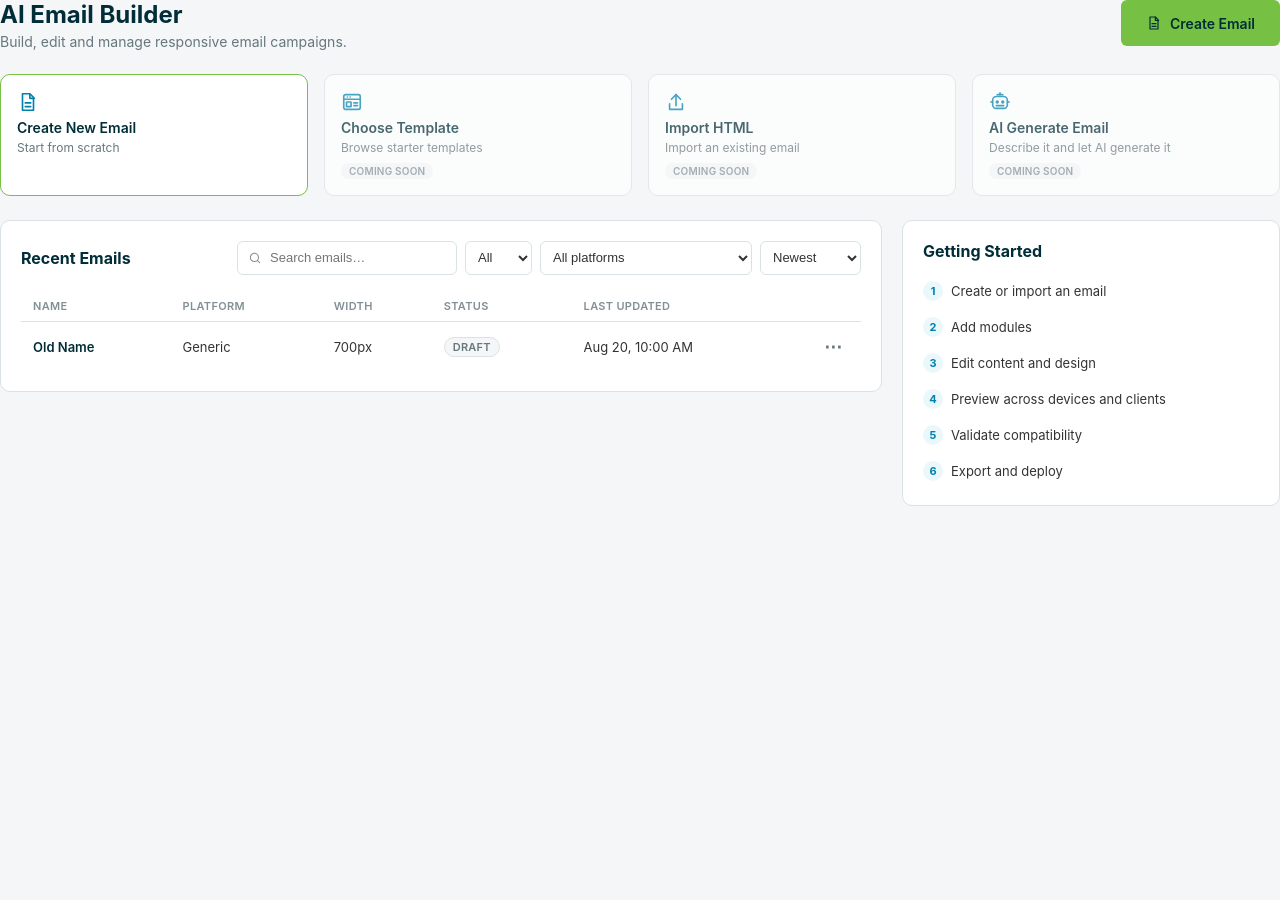
EmailBuilderDashboardPage — row actions › Rename opens a dialog, saves through the API, and updates the row without a reload
Expected: the link "Old Name" is shown, top-left (33, 338), bottom-right (94, 354)
Click the button named "Actions for Old Name" at (833, 346), box top-left (817, 330), bottom-right (849, 362)
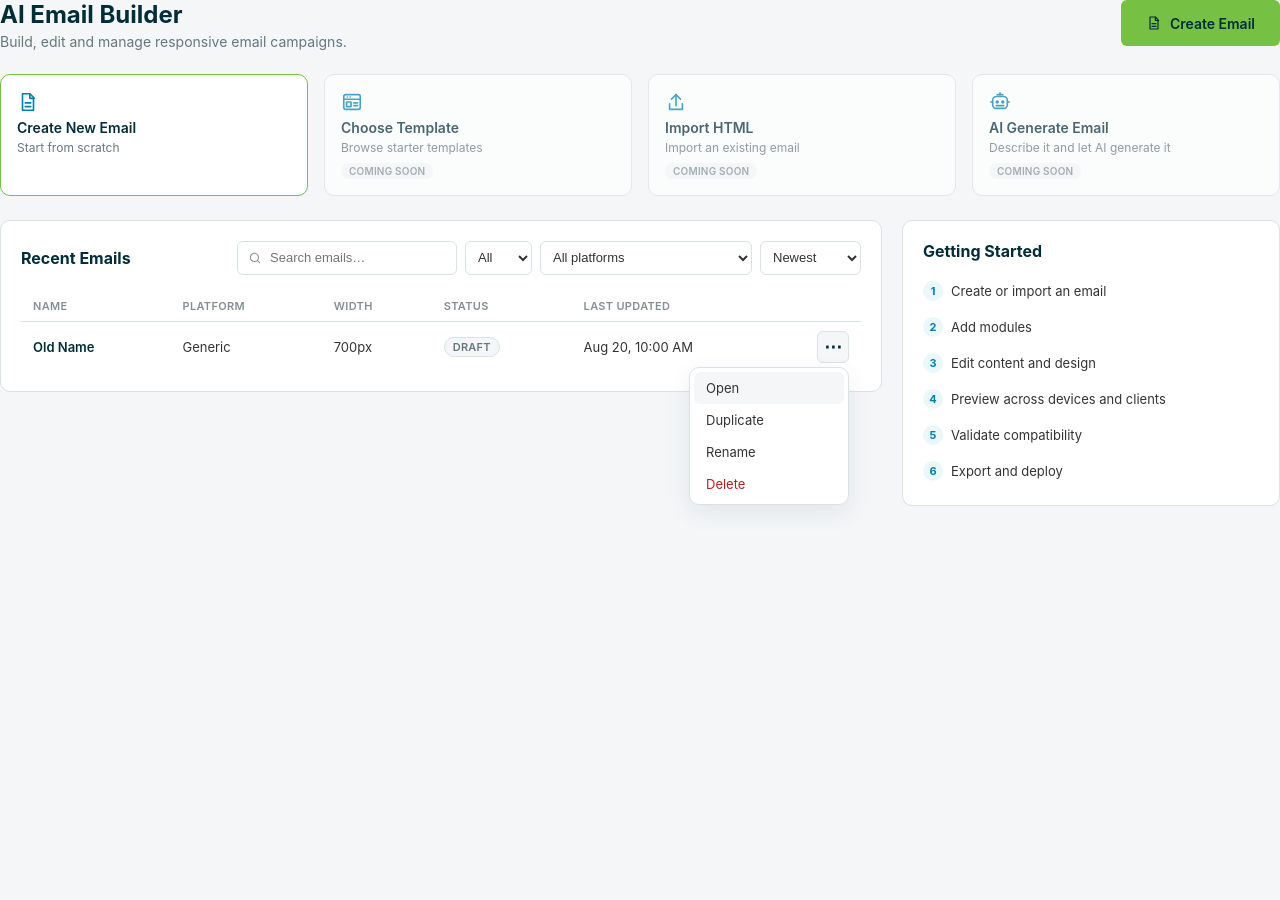
Click the menu item "Rename" at (769, 452), box top-left (694, 436), bottom-right (844, 468)
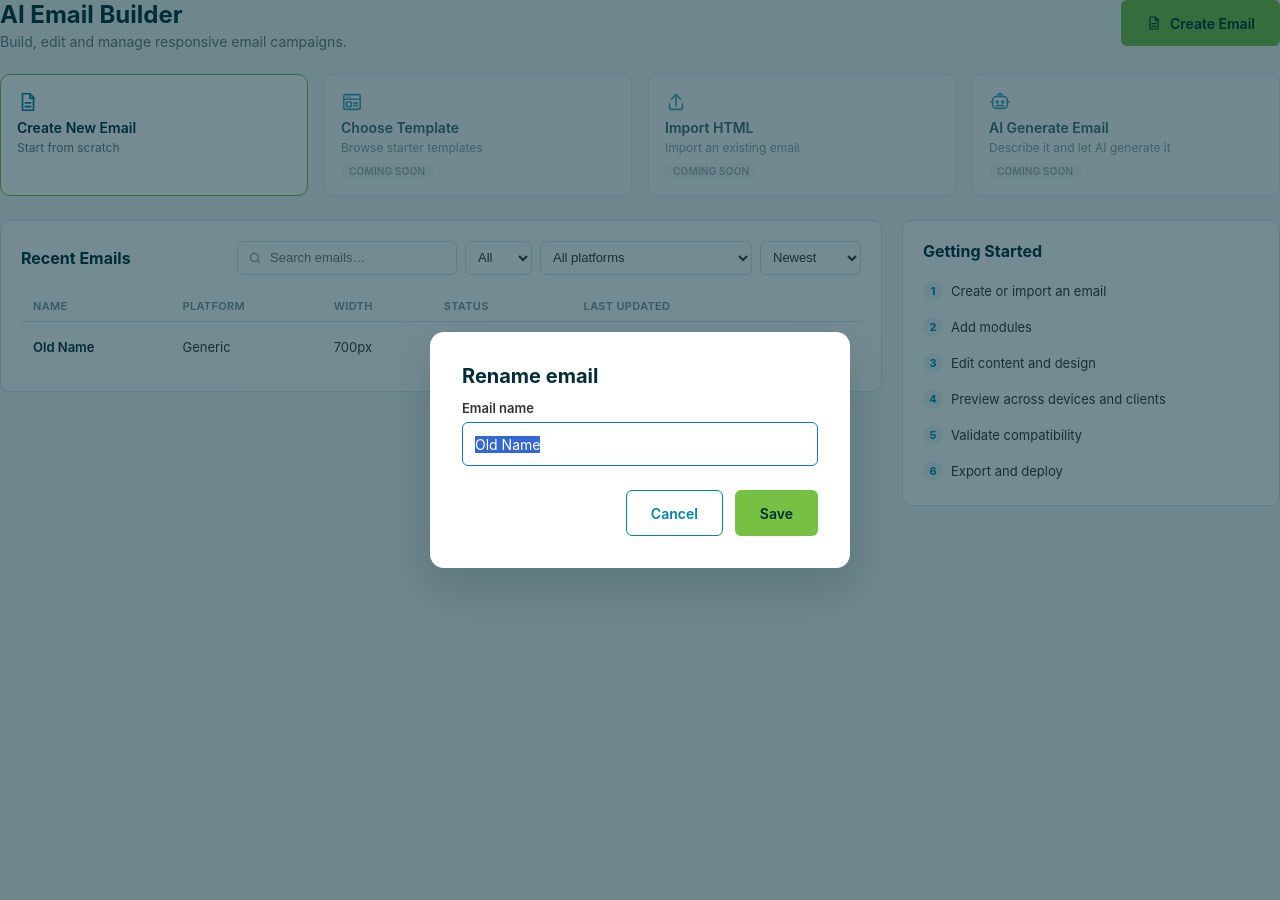
Replace the text in the field labelled "Email name" with "New Name" at (640, 444), box top-left (462, 422), bottom-right (818, 466)
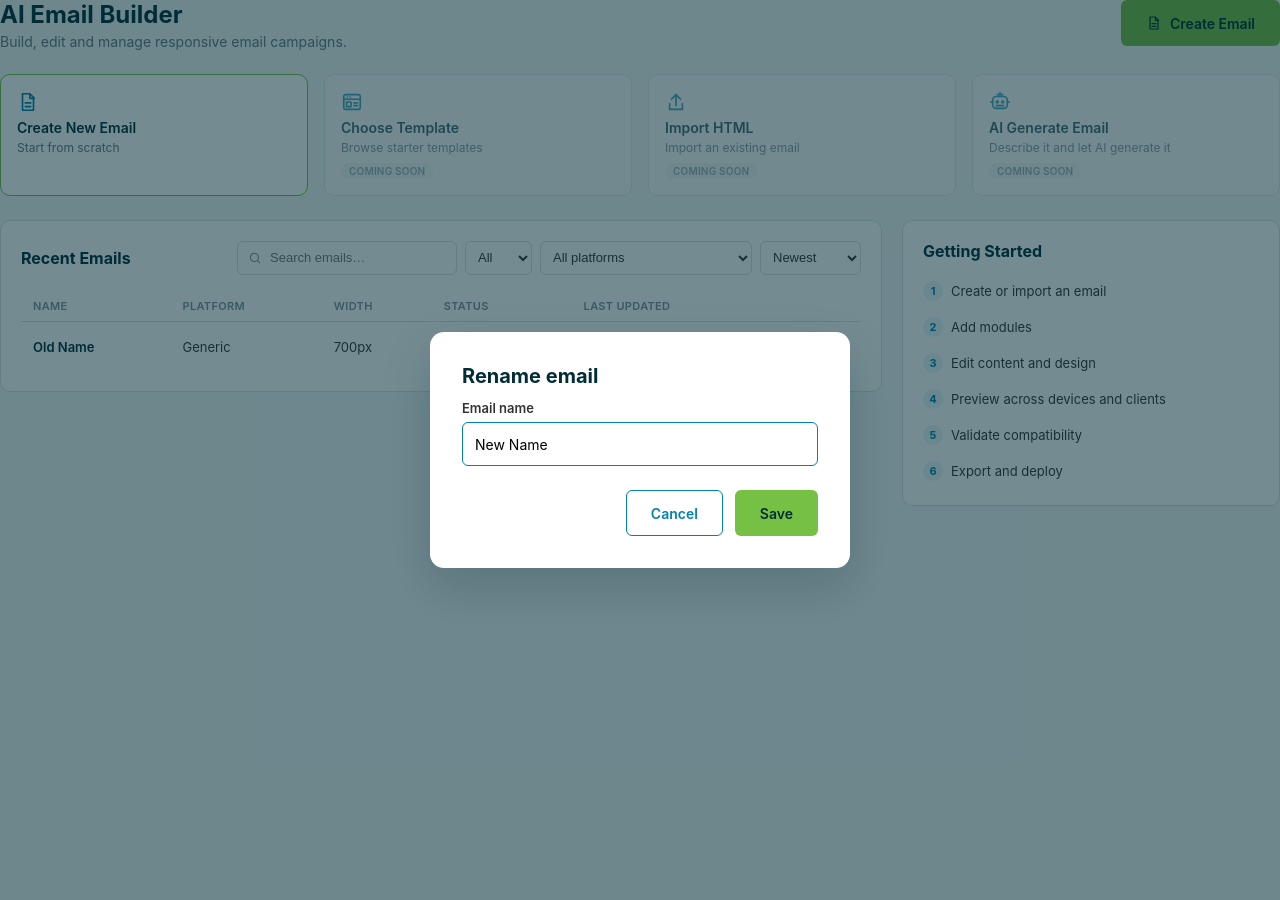
Click the button "Save" at (776, 513), box top-left (735, 490), bottom-right (818, 536)
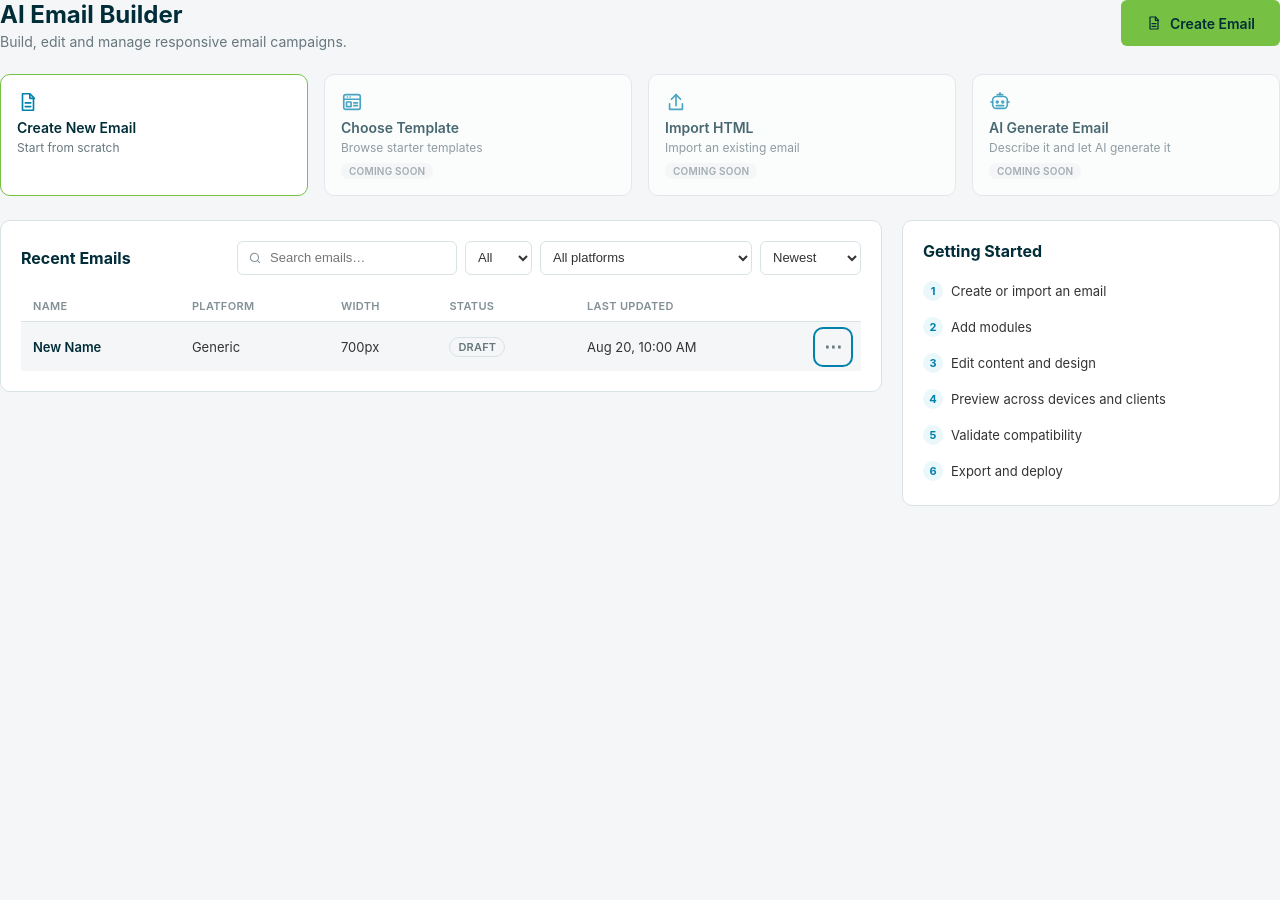
Expected: the link "New Name" is shown, top-left (33, 338), bottom-right (101, 354)
Expected: the link "Old Name" is gone
